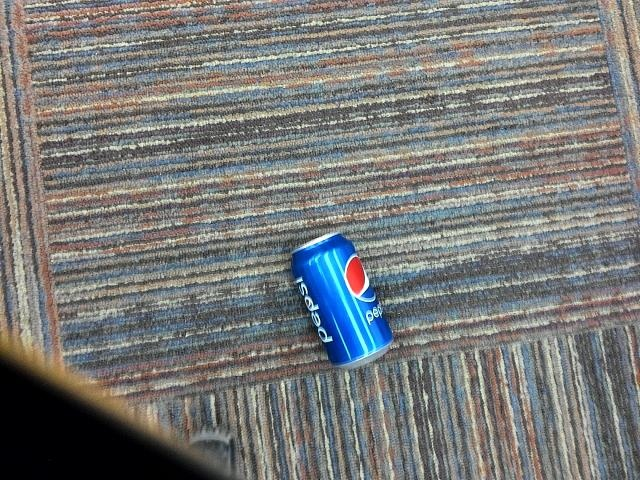can: (284, 227, 401, 375)
